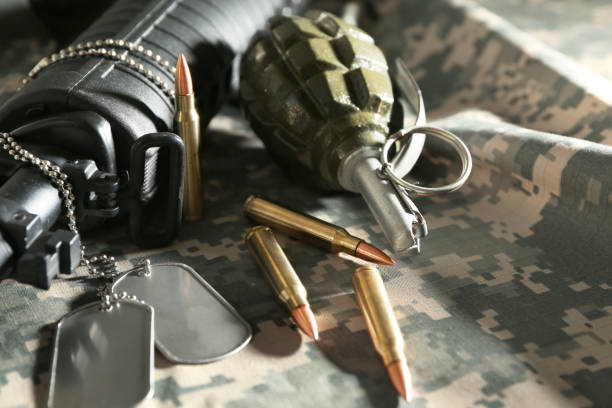e1: (242, 10, 470, 248)
